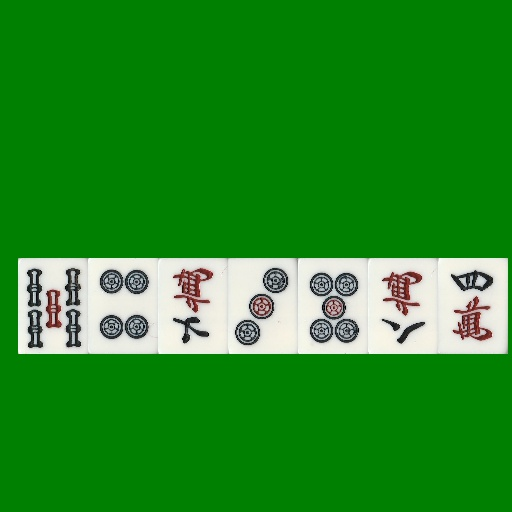3p: (228, 258, 298, 354)
4m: (438, 258, 508, 354)
4p: (88, 258, 158, 354)
5p: (298, 258, 368, 354)
5s: (18, 258, 88, 354)
7m: (158, 258, 228, 354)
8m: (368, 258, 438, 354)
